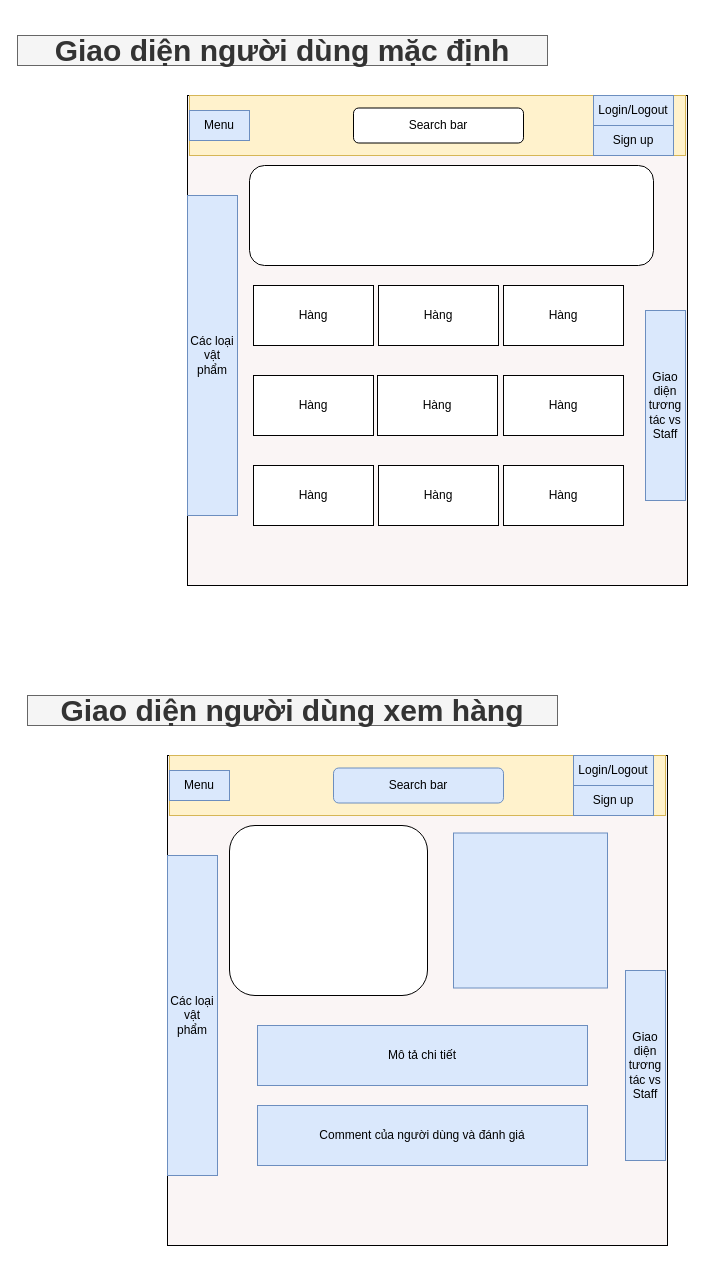
Some shapes in this 705 by 1263 pixel diagram are drawn without their labels. The centre of each missing label's shape, as x and y in pixels:
"Giới thiệu web" belongs at (x=451, y=215).
"Thông tin vật phẩm" belongs at (x=530, y=910).
"Ảnh mình hoạ vật phẩm" belongs at (x=328, y=910).
